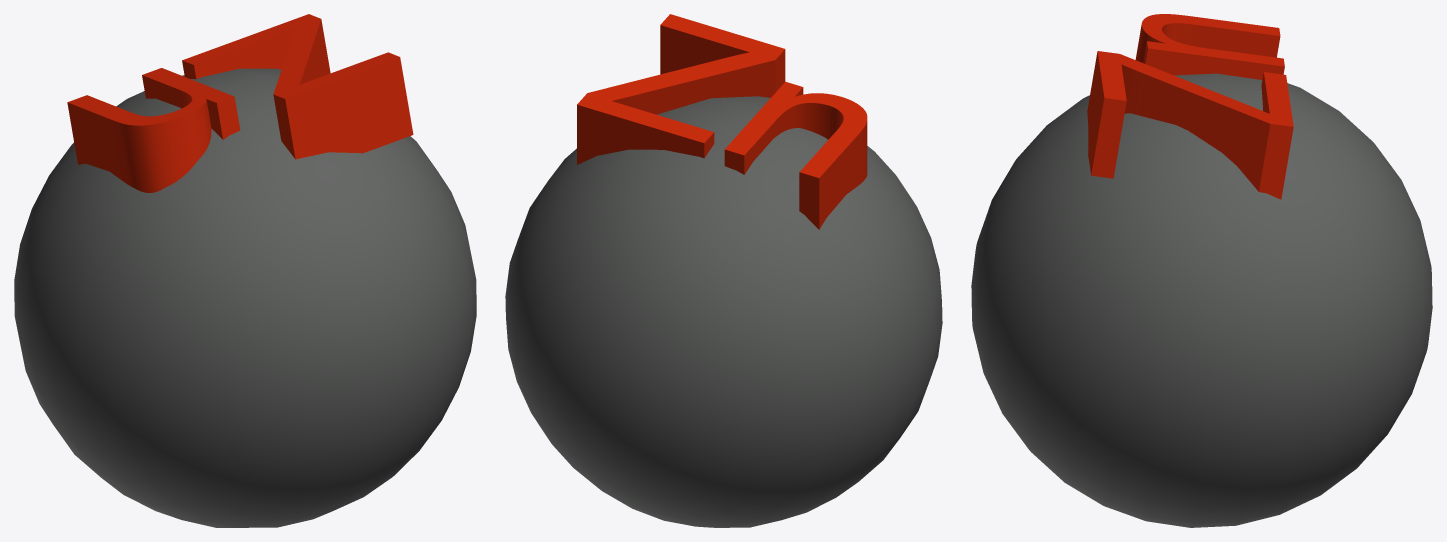
The picture shows the model from 3 angles, left to right: view 1: azimuth 30°, elevation 25°; view 2: azimuth 150°, elevation 25°; view 3: azimuth 270°, elevation 25°; orthographic projection. The views are drawn at different scales.
Parts seen in each view (by area): view 1: Zn; view 2: Zn; view 3: Zn.
Boxes of the visible parts, <box> form: Zn: <box>14,14,476,527</box>; Zn: <box>505,14,942,527</box>; Zn: <box>971,14,1432,527</box>.
Size of the model in its own units: 38.63 by 42.42 by 38.6.
